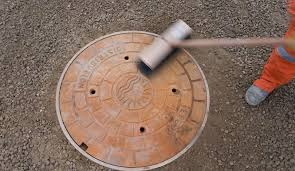Manhole-Closed: (45, 20, 227, 166)
human: (234, 2, 293, 118)
